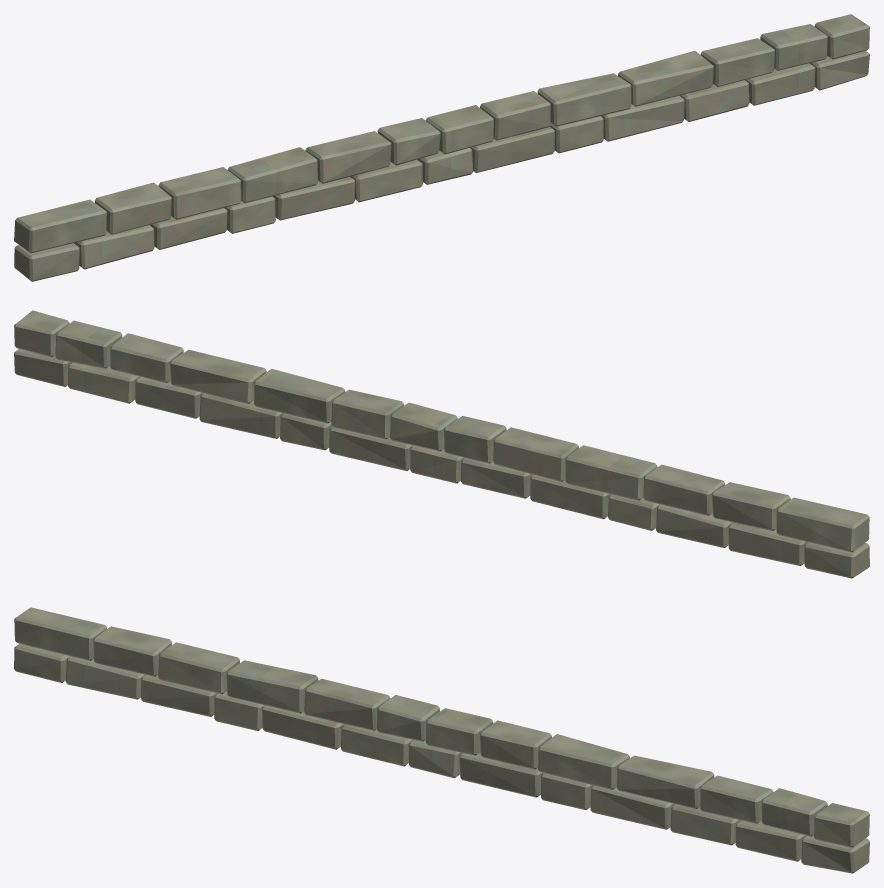
File: SM_HH_V2_Stone_CameraSide.fbx
The picture shows the model from 3 angles, top to bottom: view 1: azimuth 30°, elevation 25°; view 2: azimuth 150°, elevation 25°; view 3: azimuth 330°, elevation 25°; orthographic projection.
Visible parts, largest first — view 1: HH_V2_Stone_CameraSide; view 2: HH_V2_Stone_CameraSide; view 3: HH_V2_Stone_CameraSide.
Part boxes in pixels (left/top/right/bottom): HH_V2_Stone_CameraSide: left=14, top=14, right=869, bottom=281; HH_V2_Stone_CameraSide: left=14, top=310, right=869, bottom=578; HH_V2_Stone_CameraSide: left=14, top=607, right=869, bottom=873.
Bounding box in the file's own units: 0.3518 × 8.68 × 0.5431.
